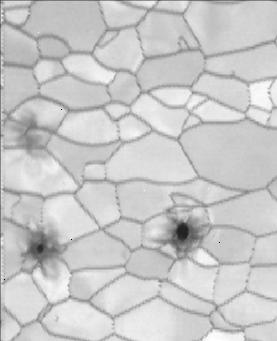good_void: (8, 103, 57, 176), (149, 208, 210, 260), (18, 224, 64, 286), (53, 312, 62, 327), (200, 208, 210, 214), (230, 69, 238, 76)
